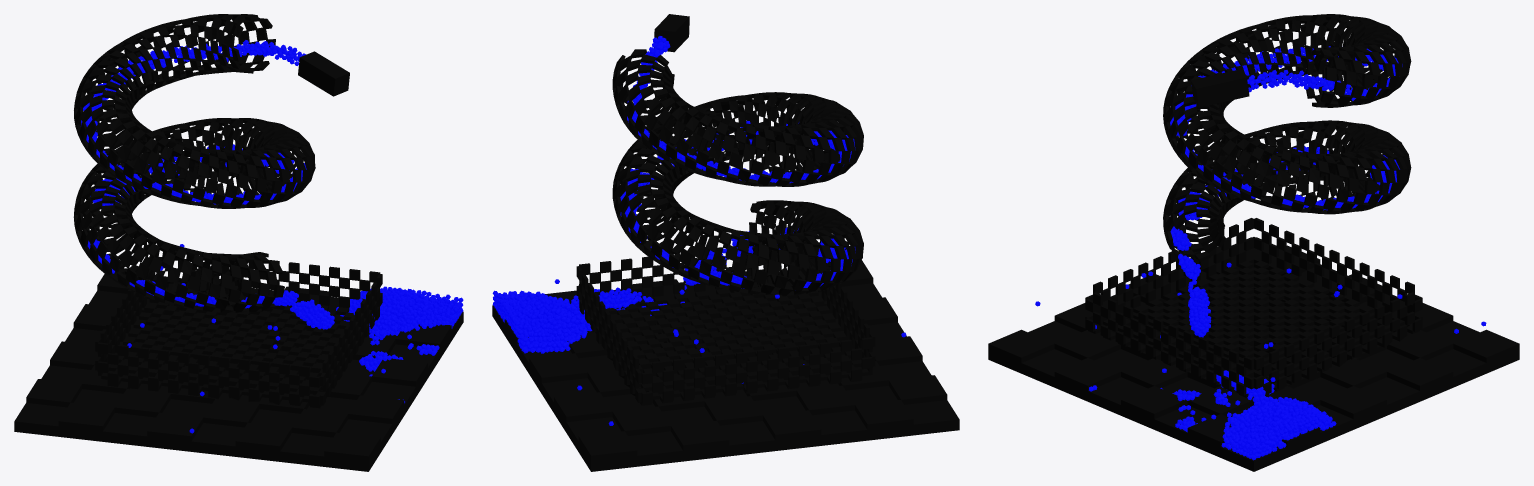
The model's file is Slide.glb.
3 renders of one model, left to right at view 1: azimuth 30°, elevation 25°; view 2: azimuth 150°, elevation 25°; view 3: azimuth 270°, elevation 25°, orthographic. The views are drawn at different scales.
Bounding box in the file's own units: 22.63 × 15.63 × 22.63.
